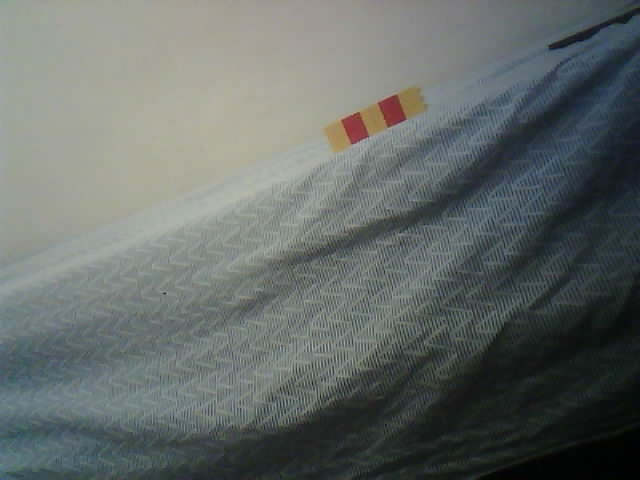lego: (322, 86, 427, 154)
